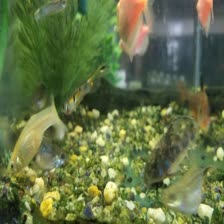Guppy: (4, 86, 60, 174), (61, 54, 110, 115), (155, 161, 206, 209), (33, 139, 76, 174)
Kiros: (133, 105, 206, 175)
Plano: (190, 0, 217, 33)
